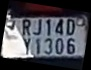character: (54, 18, 64, 37), (32, 18, 42, 36), (65, 37, 75, 54), (22, 37, 31, 55), (43, 37, 52, 55), (54, 37, 63, 55), (22, 18, 30, 36), (45, 19, 51, 37)
